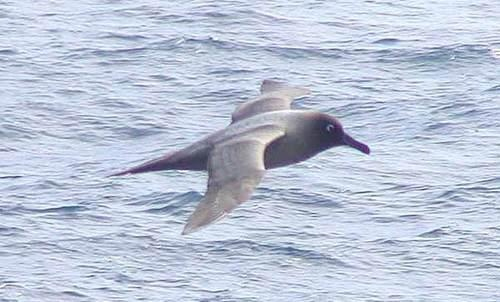bird: (100, 78, 371, 235)
